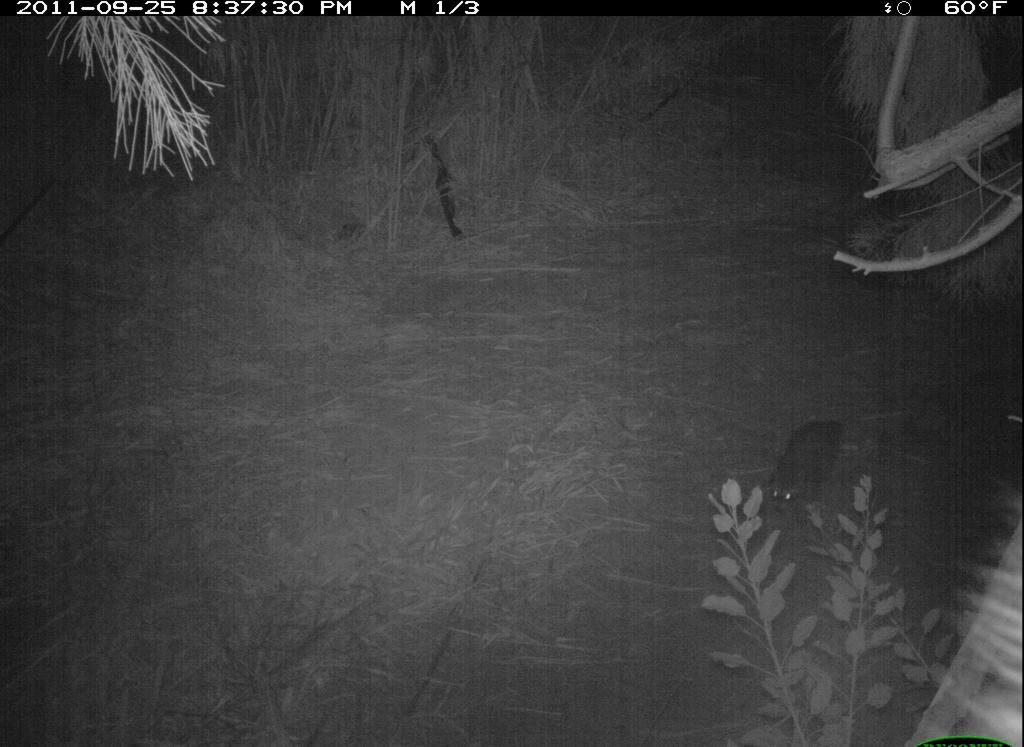raccoon: (752, 415, 859, 519)
